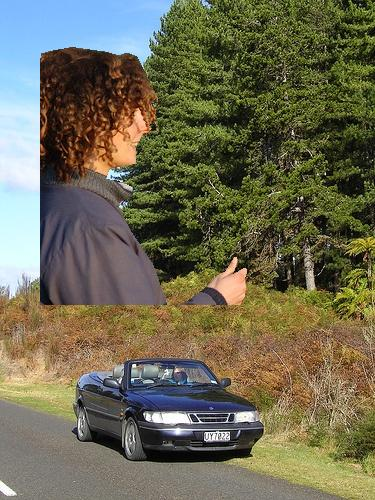tampered: (41, 48, 247, 305)
